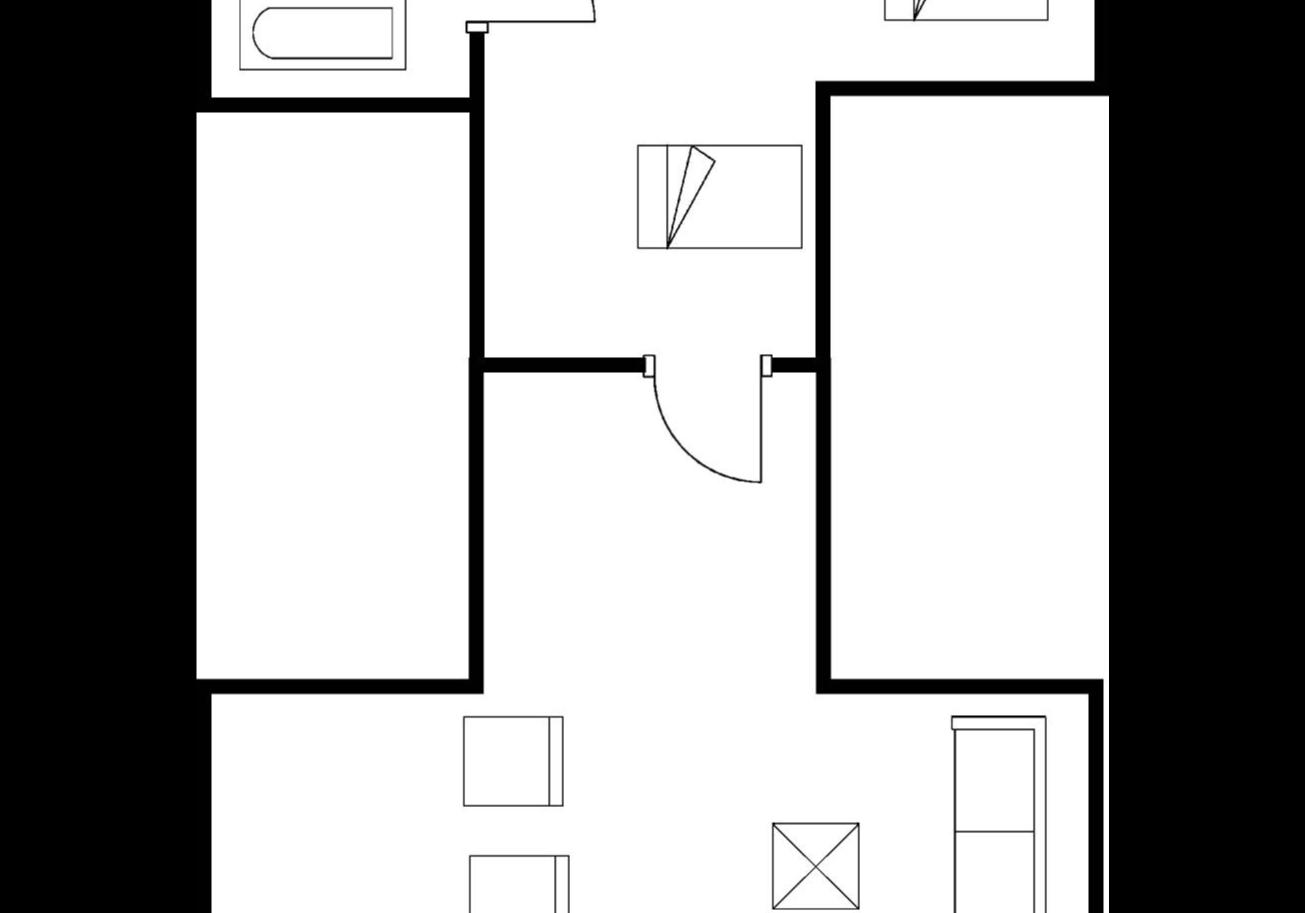bed: (631, 137, 809, 255), (876, 0, 1056, 28)
sofa: (942, 707, 1055, 913)
tub: (231, 0, 413, 79)
